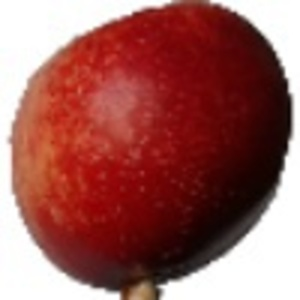nectarina: (6, 1, 294, 300)
